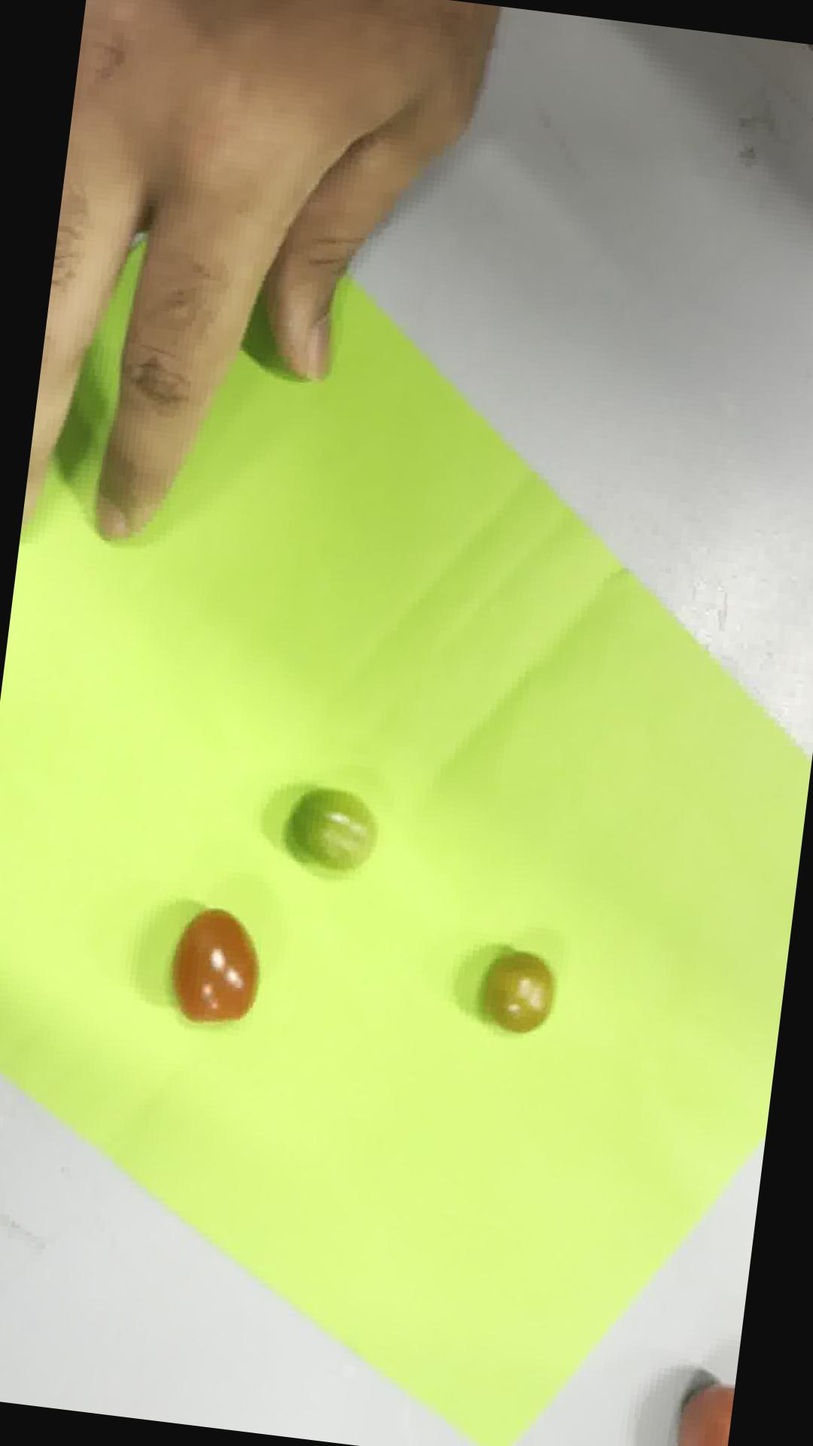green_cherry_tomato: (289, 788, 376, 870)
red_cherry_tomato: (172, 909, 259, 1022)
yellow_cherry_tomato: (483, 952, 553, 1031)
